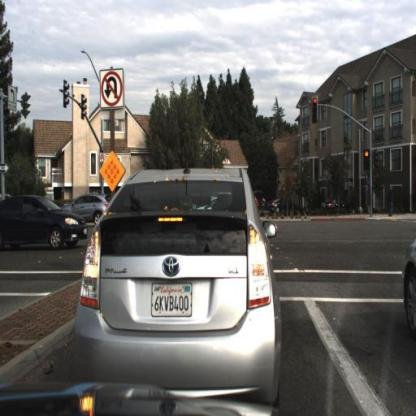car: (72, 165, 283, 388), (59, 195, 111, 229), (400, 230, 416, 337), (320, 189, 347, 222), (267, 192, 288, 219)
pedestrian: (1, 195, 90, 250), (261, 188, 271, 226), (387, 185, 397, 219), (261, 194, 266, 217)
trafficLight-Red: (362, 146, 374, 174), (312, 92, 322, 125)
